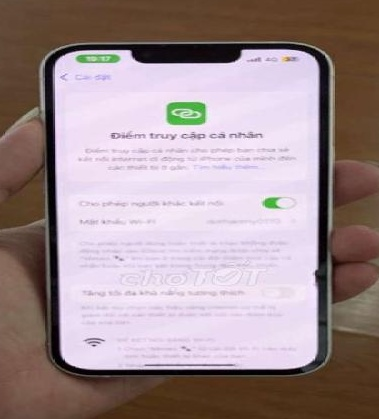screen_defect: (301, 264, 334, 300)
